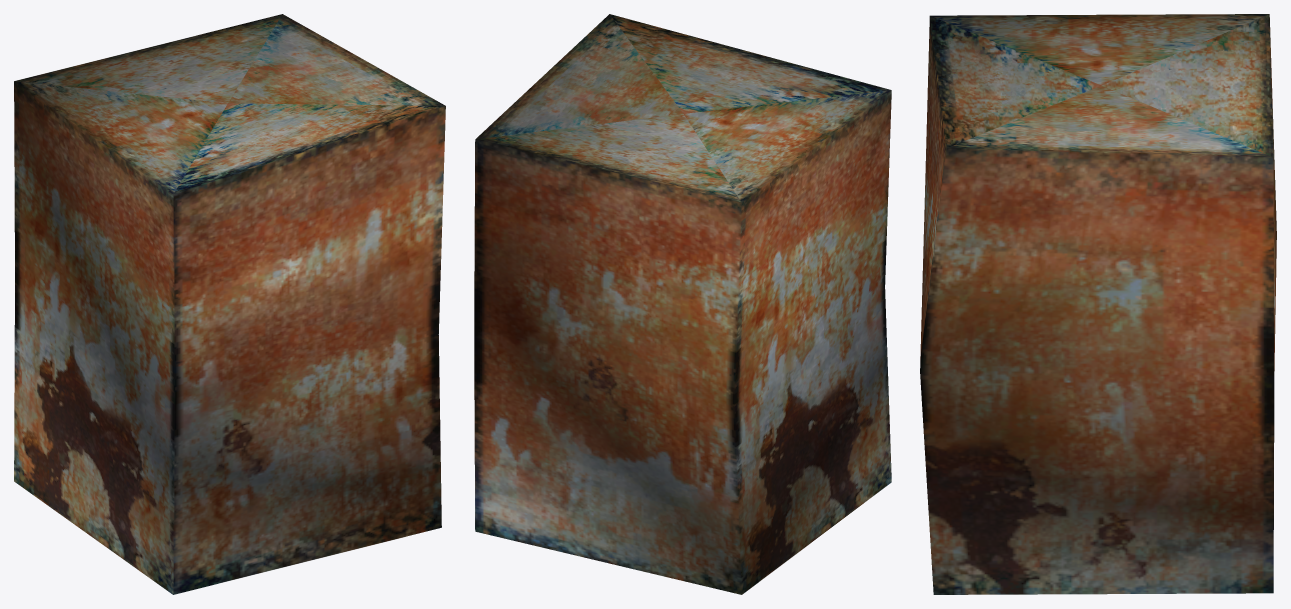
The model's file is rusty_crate.glb.
The picture shows the model from 3 angles, left to right: view 1: azimuth 30°, elevation 25°; view 2: azimuth 150°, elevation 25°; view 3: azimuth 270°, elevation 25°; orthographic projection. The views are drawn at different scales.
Visible parts, largest first — view 1: objdefault; view 2: objdefault; view 3: objdefault.
Part boxes in pixels (bbox=[...]): objdefault: bbox=[14, 14, 445, 594]; objdefault: bbox=[474, 14, 891, 594]; objdefault: bbox=[920, 14, 1276, 594].
Size of the model in its own units: 25.86 by 36.27 by 25.9.
Materials: 1 (1 with a texture image).
